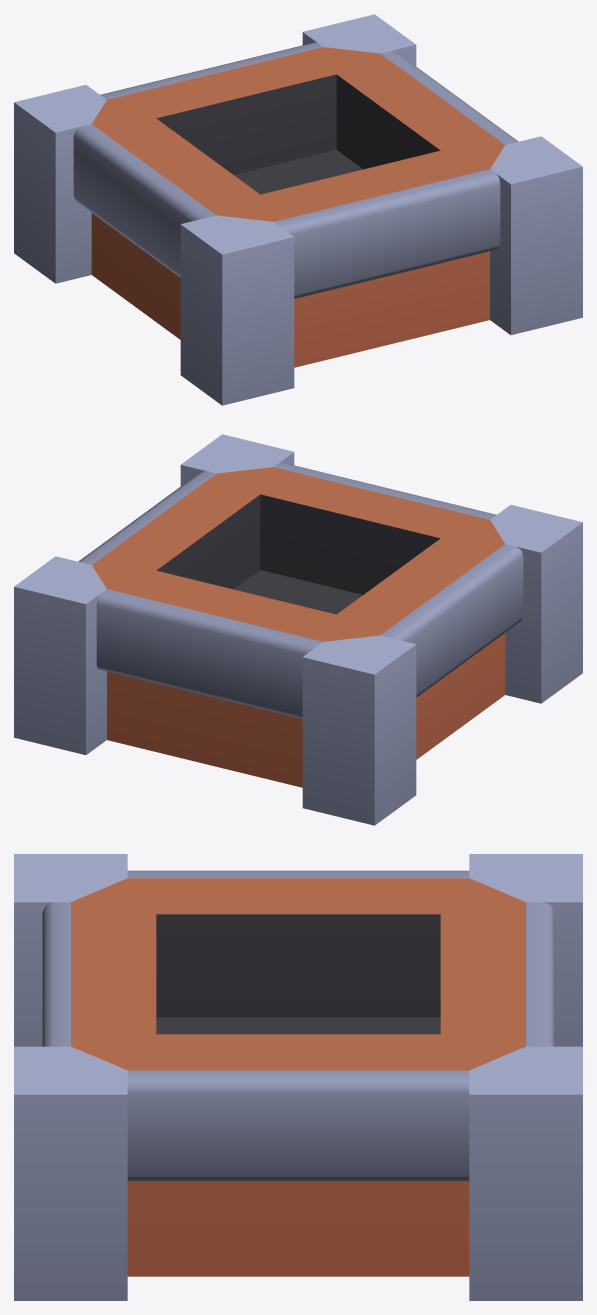
The model's file is stone_chest.glb.
The picture shows the model from 3 angles, top to bottom: view 1: azimuth 30°, elevation 25°; view 2: azimuth 150°, elevation 25°; view 3: azimuth 270°, elevation 25°; orthographic projection. The views are drawn at different scales.
Parts seen in each view (by area): view 1: chest; view 2: chest; view 3: chest.
Part boxes in pixels (left/top/right/bottom): chest: left=14, top=14, right=582, bottom=405; chest: left=14, top=434, right=582, bottom=825; chest: left=14, top=854, right=582, bottom=1300.
Bounding box in the file's own units: 0.5 × 0.2 × 0.5.
Materials: 1 (1 with a texture image).
